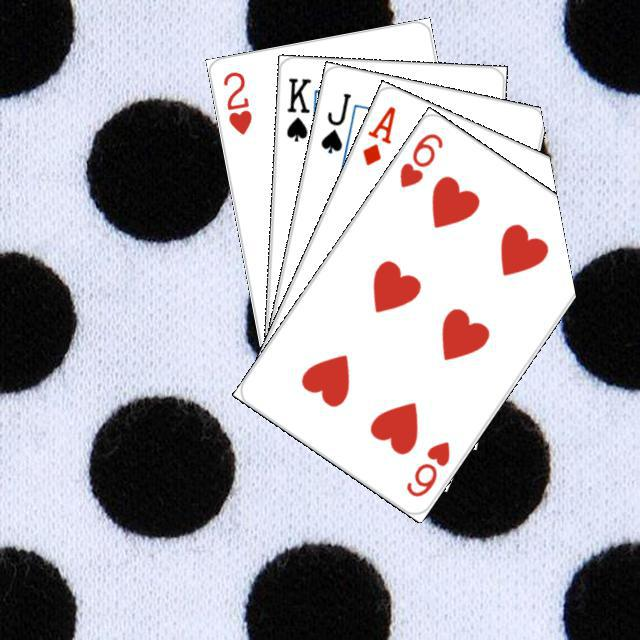2h: (218, 66, 254, 136)
6h: (401, 436, 452, 499), (394, 128, 445, 190)
Ad: (357, 100, 398, 168)
Js: (315, 88, 353, 155)
Ks: (281, 73, 313, 143)
